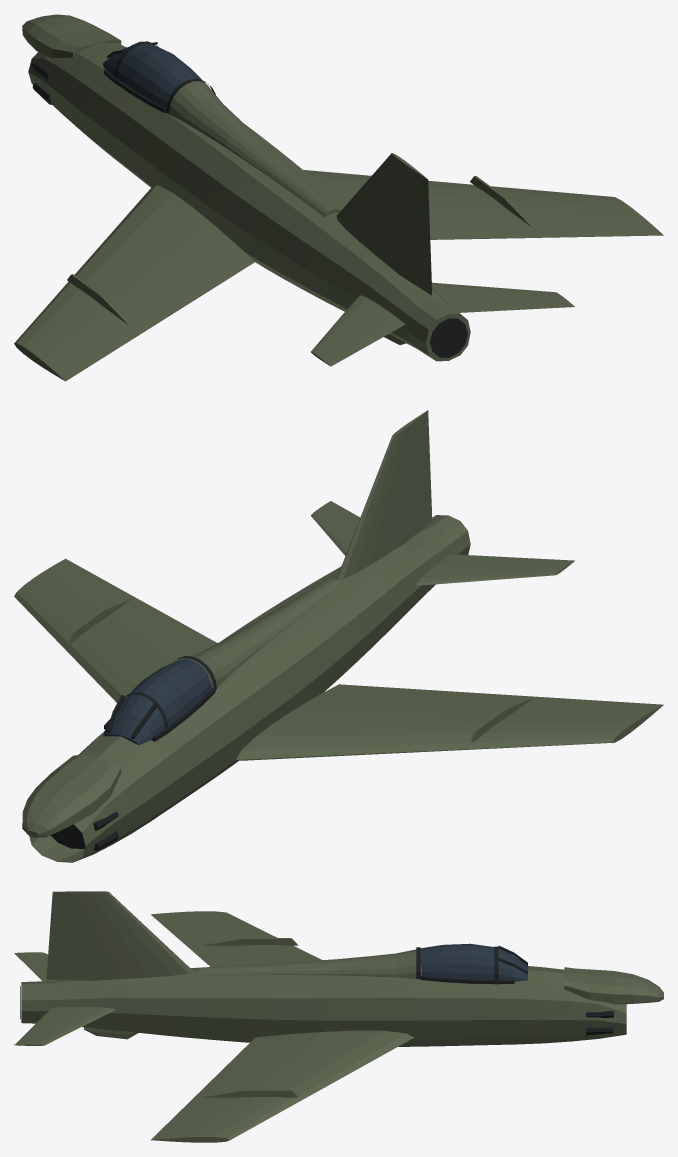
3 renders of one model, top to bottom at view 1: azimuth 30°, elevation 25°; view 2: azimuth 150°, elevation 25°; view 3: azimuth 270°, elevation 25°, orthographic. The views are drawn at different scales.
Parts seen in each view (by area): view 1: Fuselage, Wing L, Wing R, Dorsal Fairing, Vertical Fin, Cockpit Glass, Rudder, Flap L, Camera Nose, Aileron R, Stabilizer L, Aileron L (+6 smaller); view 2: Fuselage, Wing L, Wing R, Vertical Fin, Camera Nose, Cockpit Glass, Dorsal Fairing, Rudder, Stabilizer L, Flap L, Aileron R, Aileron L (+4 smaller); view 3: Fuselage, Wing R, Vertical Fin, Wing L, Dorsal Fairing, Rudder, Cockpit Glass, Camera Nose, Flap R, Stabilizer R, Aileron L, Aileron R (+3 smaller).
Boxes of the visible parts, box(x1,y1,x2,y2) form: Fuselage: box(28, 43, 470, 361); Wing L: box(14, 185, 254, 381); Wing R: box(303, 170, 663, 238); Dorsal Fairing: box(166, 81, 340, 217); Vertical Fin: box(336, 153, 415, 268); Cockpit Glass: box(102, 43, 208, 107); Rudder: box(392, 169, 432, 295); Flap L: box(142, 246, 245, 321); Camera Nose: box(22, 14, 121, 58); Aileron R: box(493, 221, 647, 238); Stabilizer L: box(311, 295, 389, 361); Aileron L: box(62, 309, 154, 375); Fuselage: box(29, 515, 470, 862); Wing L: box(236, 684, 663, 760); Wing R: box(14, 558, 194, 702); Vertical Fin: box(337, 419, 415, 580); Camera Nose: box(22, 754, 121, 837); Cockpit Glass: box(103, 659, 211, 745); Dorsal Fairing: box(184, 578, 341, 688); Rudder: box(399, 410, 432, 546); Stabilizer L: box(416, 563, 568, 585); Flap L: box(331, 685, 500, 704); Aileron R: box(62, 564, 154, 617); Aileron L: box(493, 695, 646, 710); Fuselage: box(21, 965, 626, 1046); Wing R: box(151, 1030, 413, 1142); Vertical Fin: box(73, 891, 193, 979); Wing L: box(151, 911, 322, 965); Dorsal Fairing: box(199, 949, 421, 979); Rudder: box(46, 891, 101, 980); Cockpit Glass: box(420, 943, 527, 984); Camera Nose: box(564, 967, 663, 1004); Flap R: box(203, 1039, 286, 1088); Stabilizer R: box(24, 1007, 114, 1045); Aileron L: box(156, 917, 227, 957); Aileron R: box(156, 1089, 227, 1134).
Bounding box in the file's own units: 8.56 × 2.67 × 10.42.
